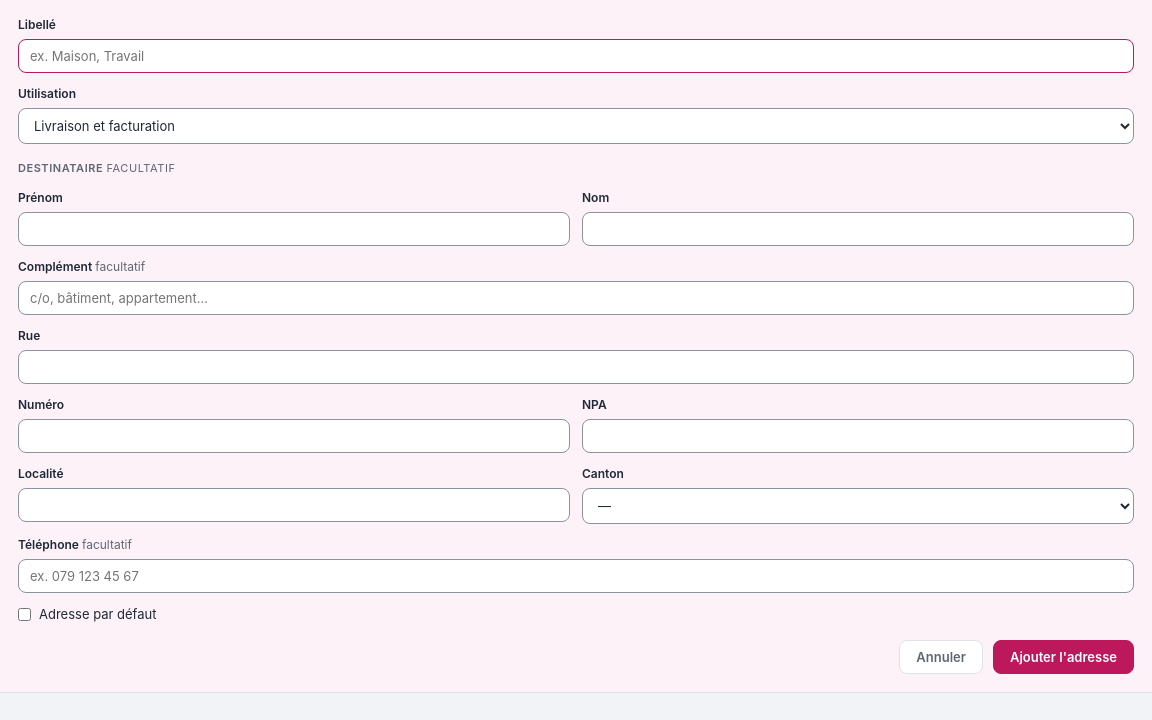
Test case: CustomerAddressForm › NPA à une seule localité : localité et canton remplis d'office
This screenshot has width=1152, height=720.
Type "1509" into the field labelled "NPA". click: coordinates (858, 436)
box: [582, 418, 1134, 452]
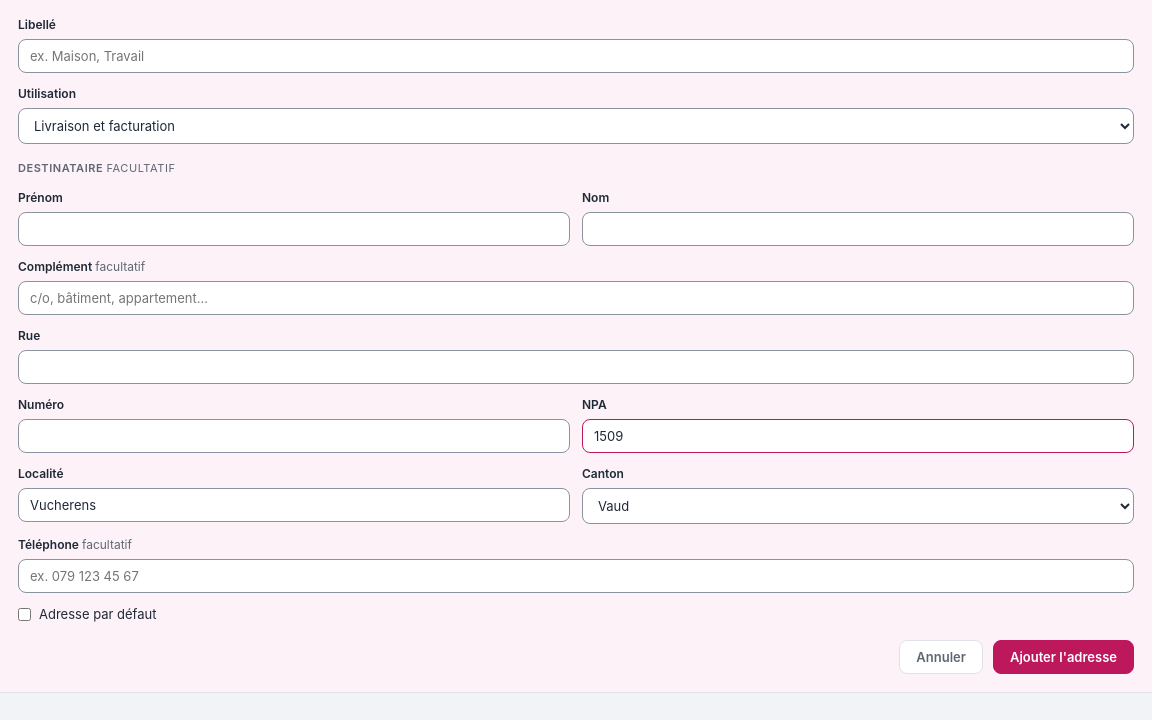
expect the field labelled "Localité" holds "Vucherens": met, box [18, 488, 570, 522]
expect the dropdown labelled "Canton" shows "Vaud": met, box [582, 488, 1134, 524]
